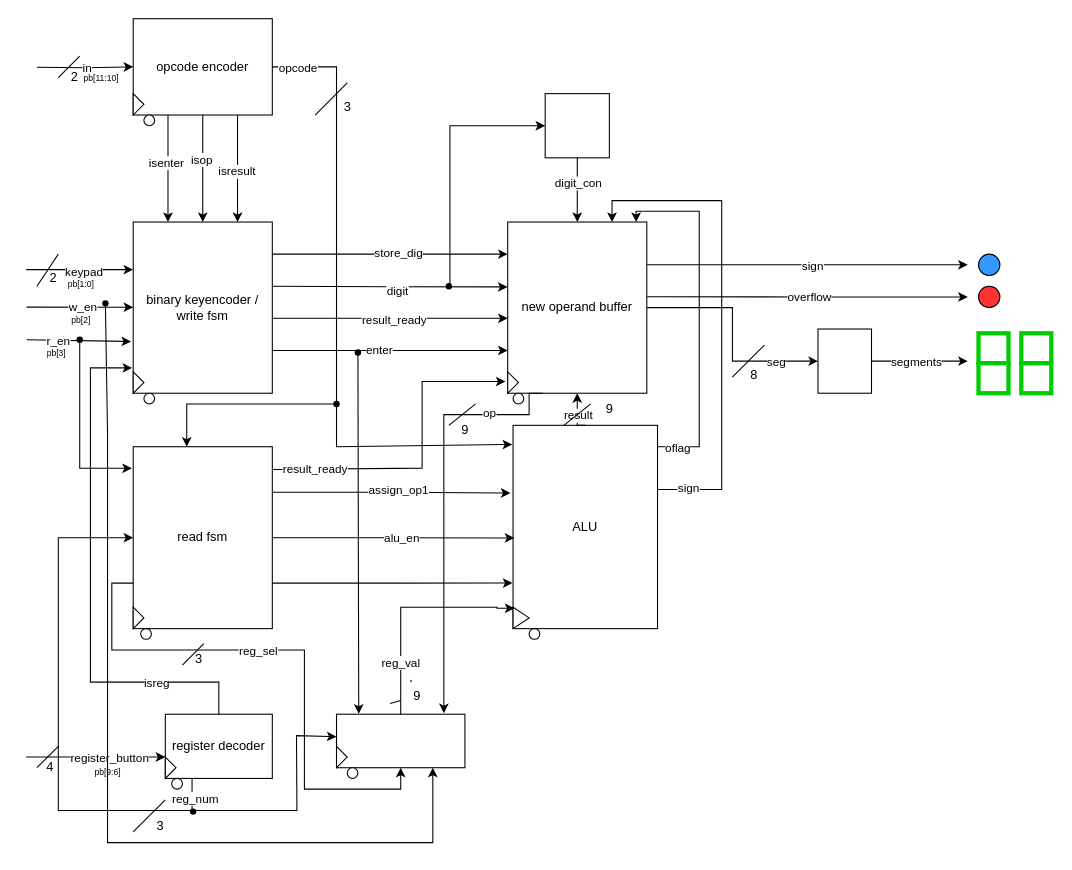
Image size: 1072x870. Some labels were removed from this diagram. The centre of each missing label's shape, as x and y in pixels:
negative input: point 576,125
reg file: point 400,740
ssdec: point 844,360
